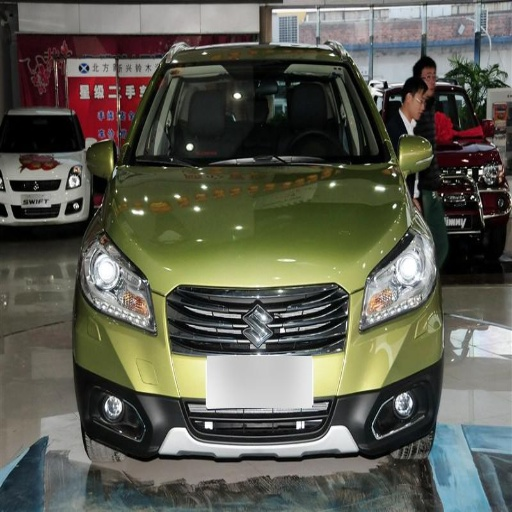front_bumper: (81, 289, 439, 456)
front_right_light: (82, 233, 156, 333)
hood: (103, 164, 411, 292)
left_mirror: (399, 134, 434, 174)
